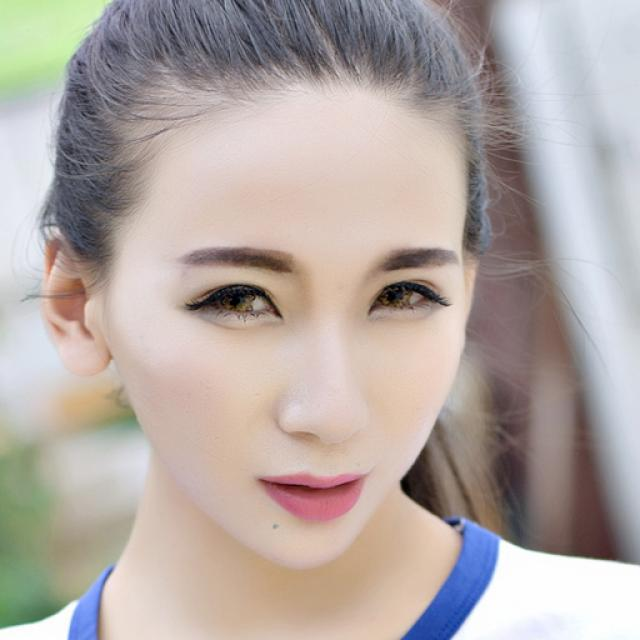neutral: (116, 73, 469, 572)
